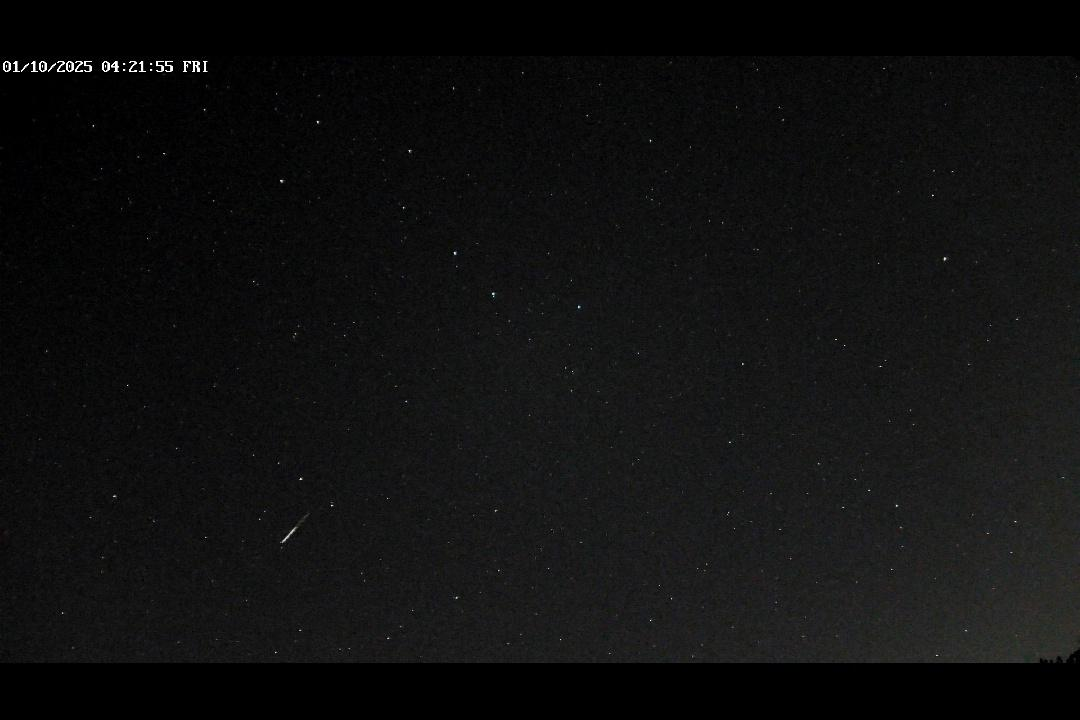meteorite: (275, 509, 313, 547)
